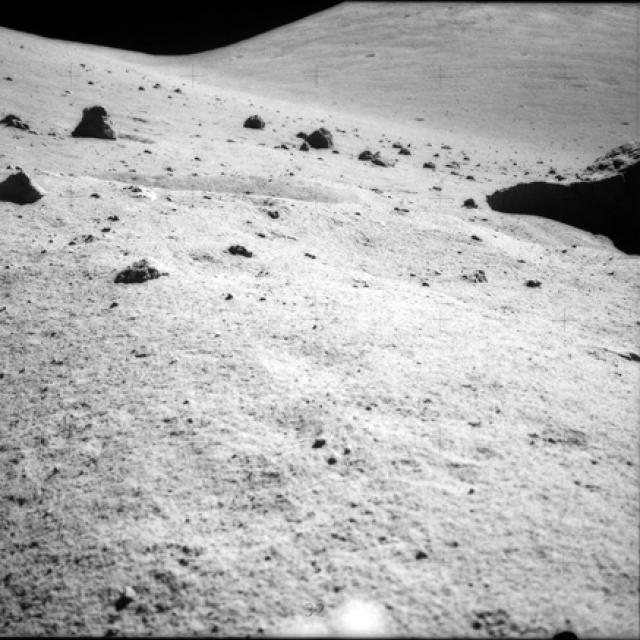crater: (276, 216, 512, 287), (114, 161, 357, 213)
rock: (488, 132, 638, 255), (68, 97, 122, 143), (0, 171, 50, 207), (115, 251, 166, 284), (294, 119, 336, 151), (232, 108, 271, 132), (0, 106, 31, 134), (367, 144, 400, 169), (216, 237, 249, 261), (460, 190, 477, 209)
